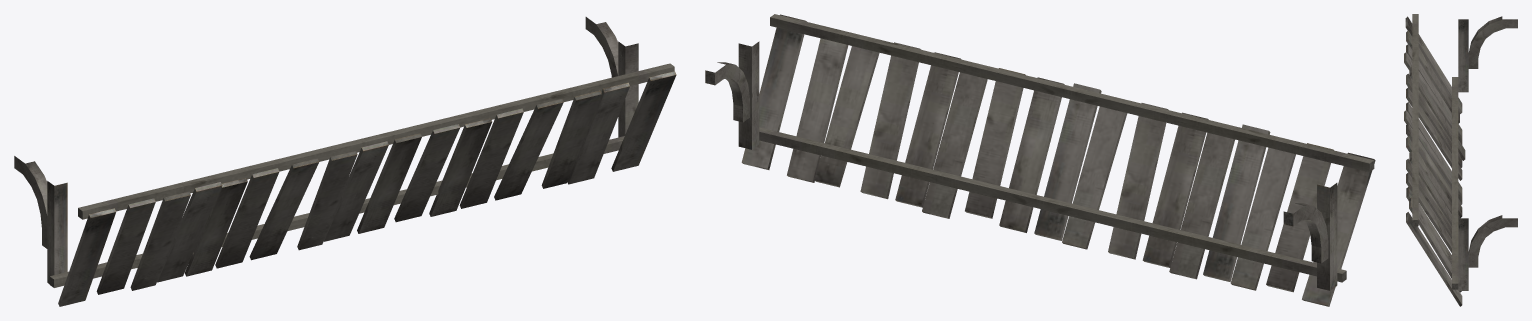
Rendered from awning_desert_wood_long.glb.
3 views of the same model, side by side, from view 1: azimuth 30°, elevation 25°; view 2: azimuth 150°, elevation 25°; view 3: azimuth 270°, elevation 25° (orthographic). The views are drawn at different scales.
Size of the model in its own units: 151 by 30.83 by 35.25.
1 material, 1 textured.
